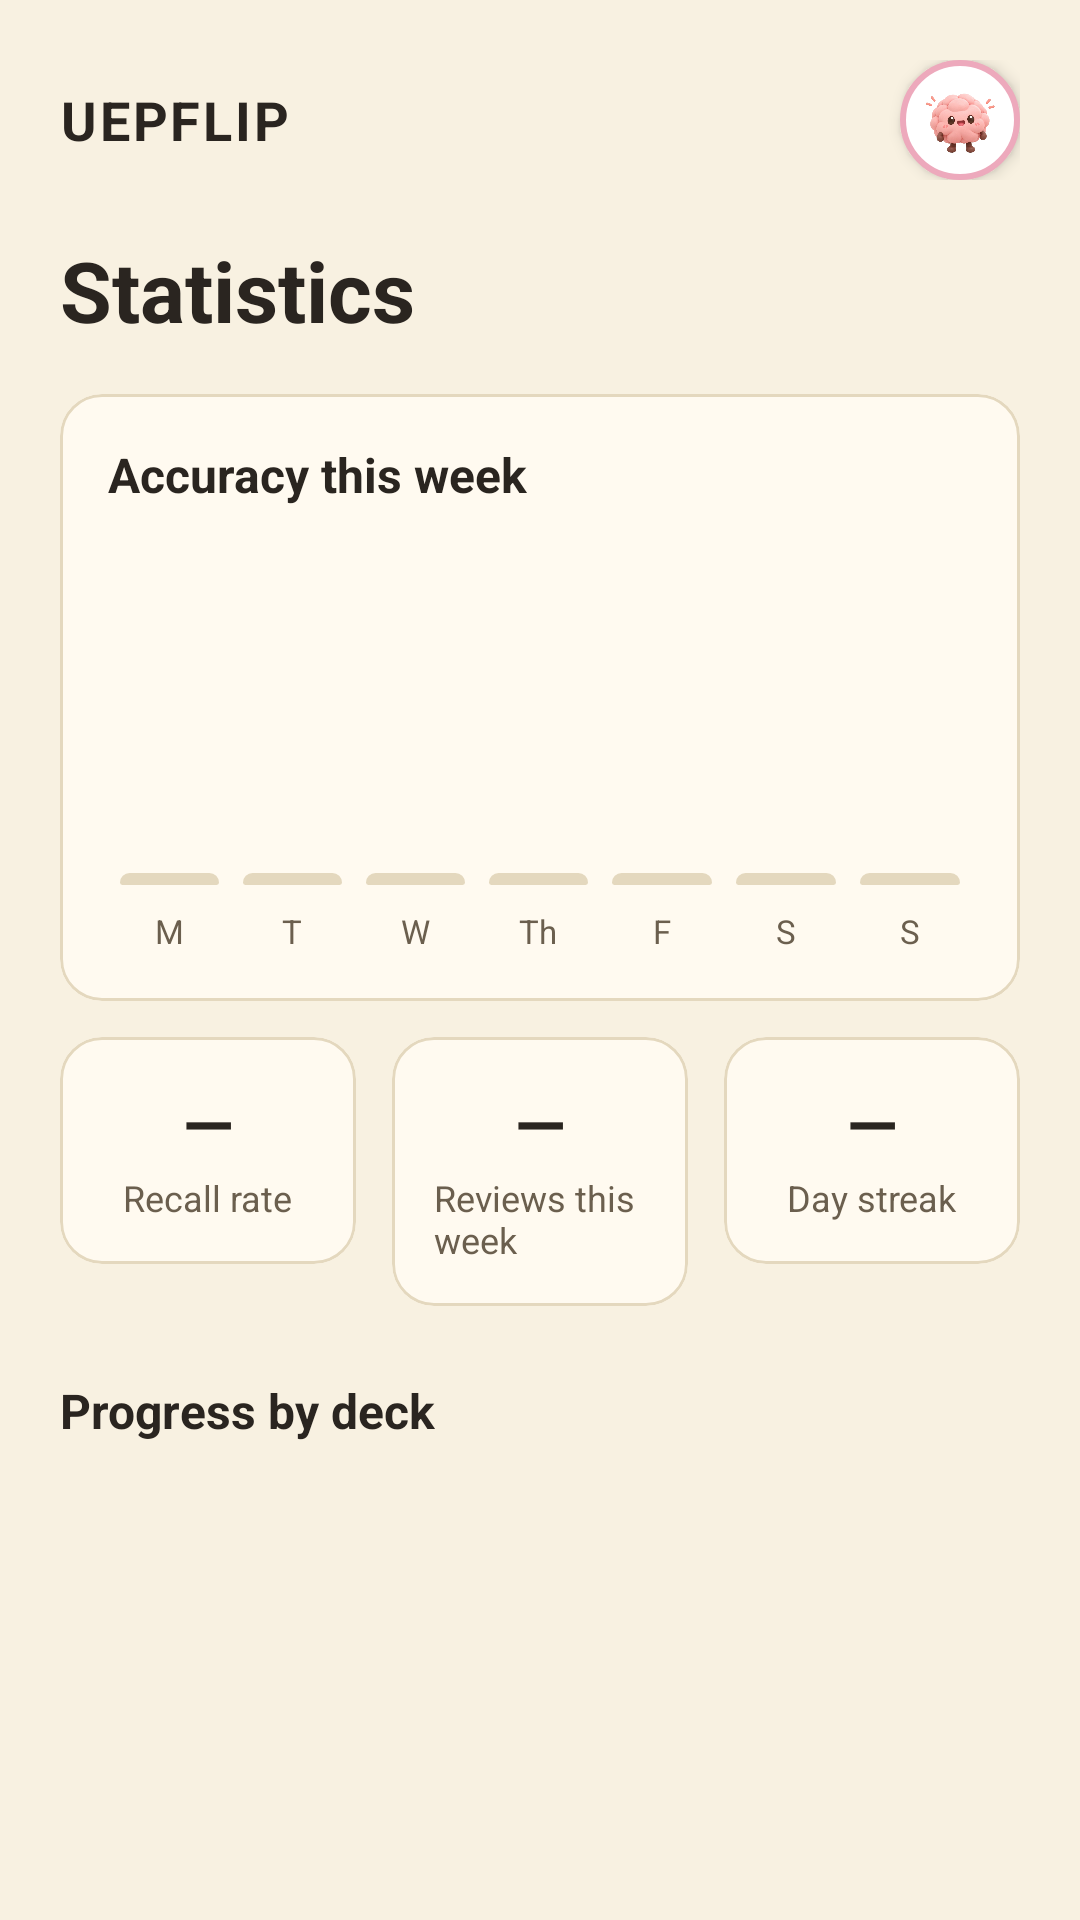

Screen size 1080*1920. Icon name, then its box in pixels as (x1=x1, y1=y1, x2=x2, y2=y2):
Open profile: (x1=900, y1=60, x2=1020, y2=180)
